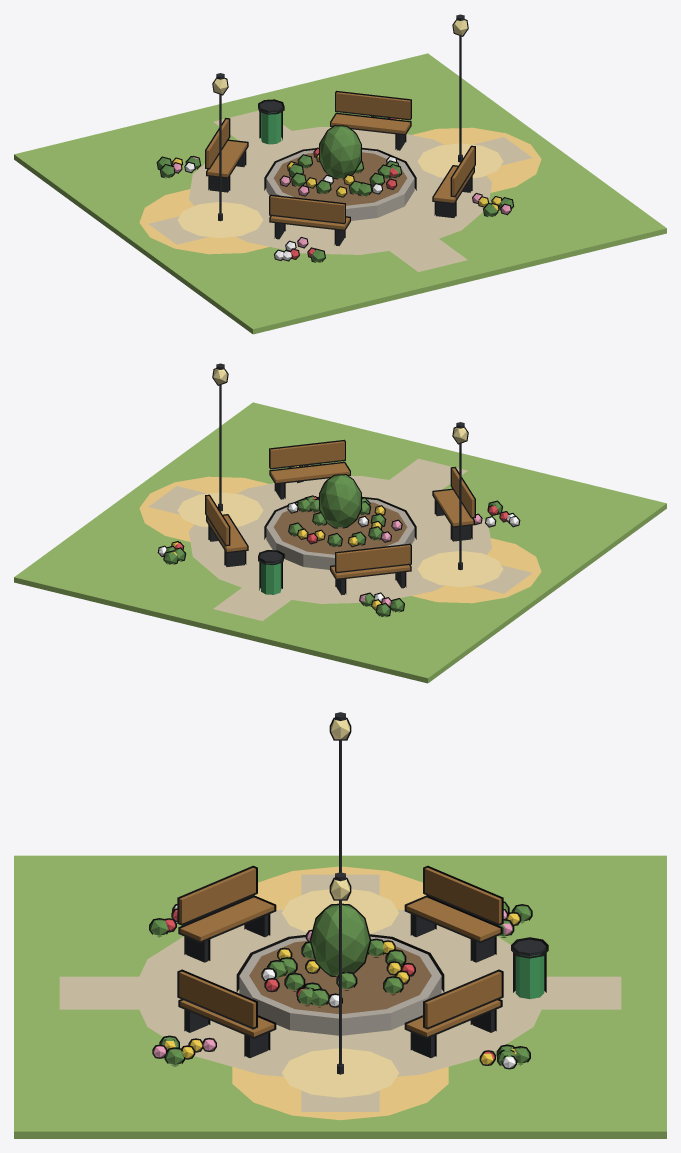
File: Park_cim_cicek.fbx
3 renders of one model, top to bottom at view 1: azimuth 30°, elevation 25°; view 2: azimuth 150°, elevation 25°; view 3: azimuth 270°, elevation 25°, orthographic. The views are drawn at different scales.
Parts seen in each view (by area): view 1: Park_cim_cicek; view 2: Park_cim_cicek; view 3: Park_cim_cicek.
Boxes of the visible parts, x1,y1,x2,y2 form: Park_cim_cicek: (14,14,666,334); Park_cim_cicek: (14,363,666,683); Park_cim_cicek: (14,712,666,1138).
Size of the model in its own units: 10 by 3.48 by 10.
